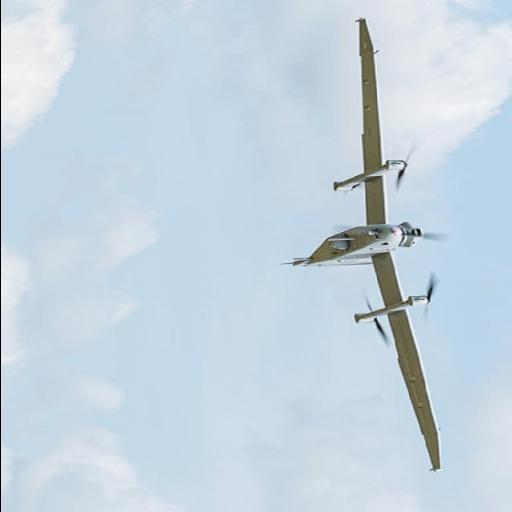uav: (262, 13, 468, 485)
